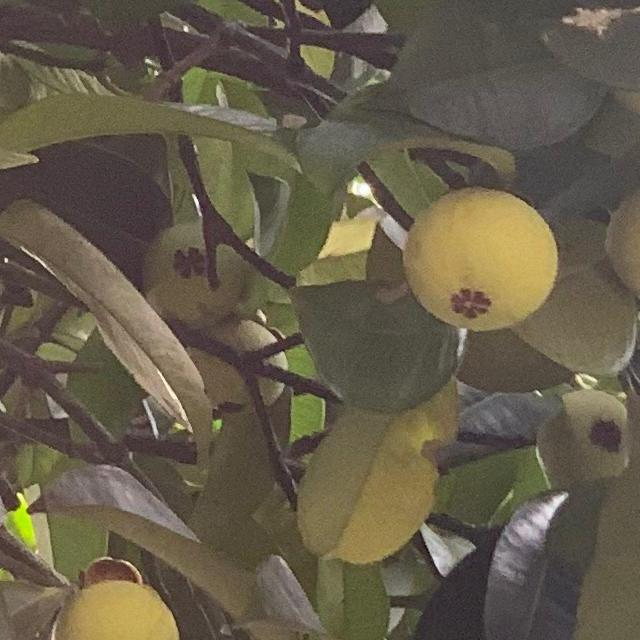mangosteen: (413, 154, 633, 379), (0, 439, 213, 640), (578, 114, 640, 389)
